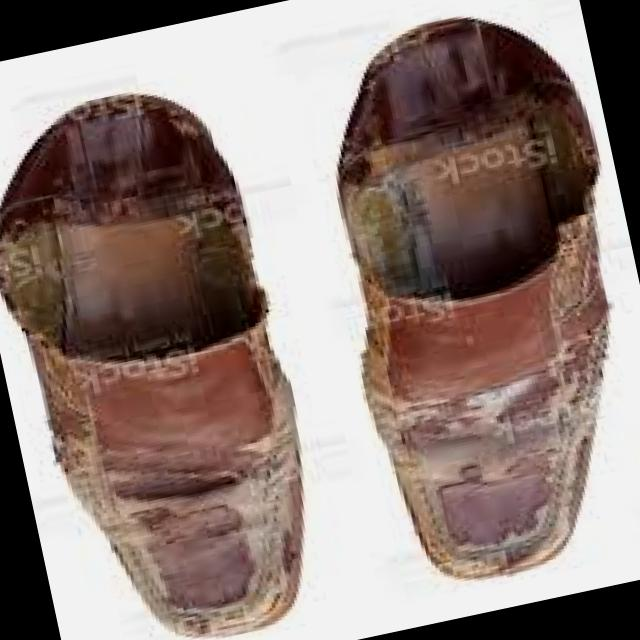giay: (0, 93, 301, 638), (337, 17, 608, 579)
